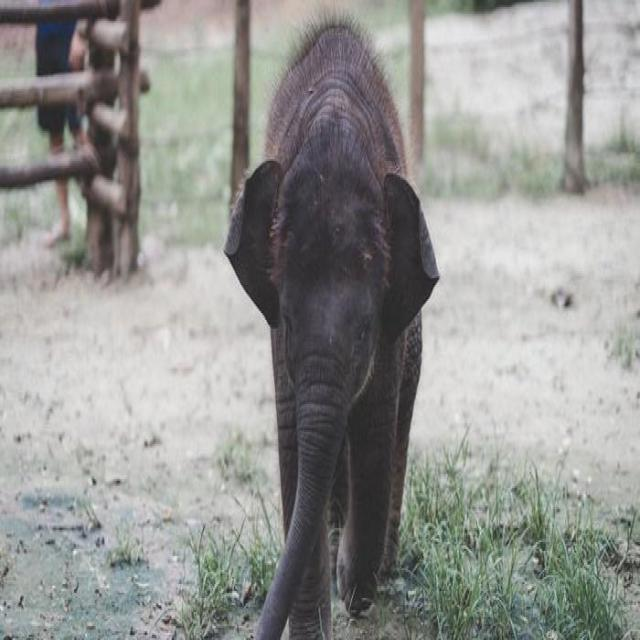Elephant: (220, 0, 442, 640)
